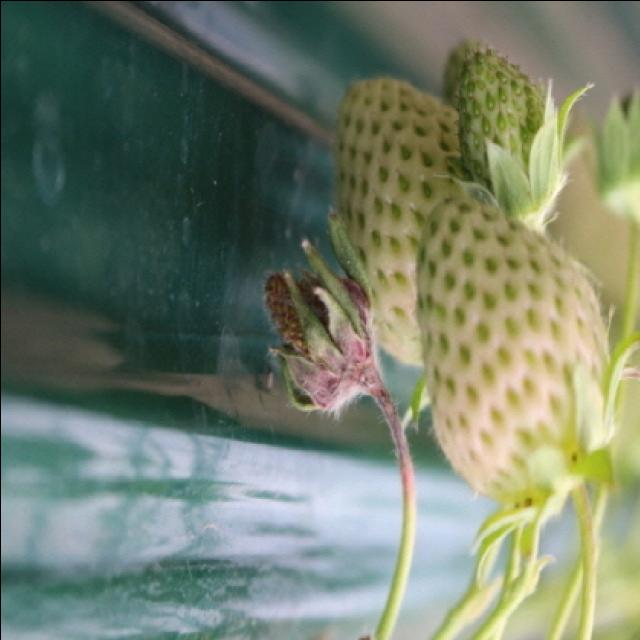Gray Mold: (261, 202, 404, 441)
